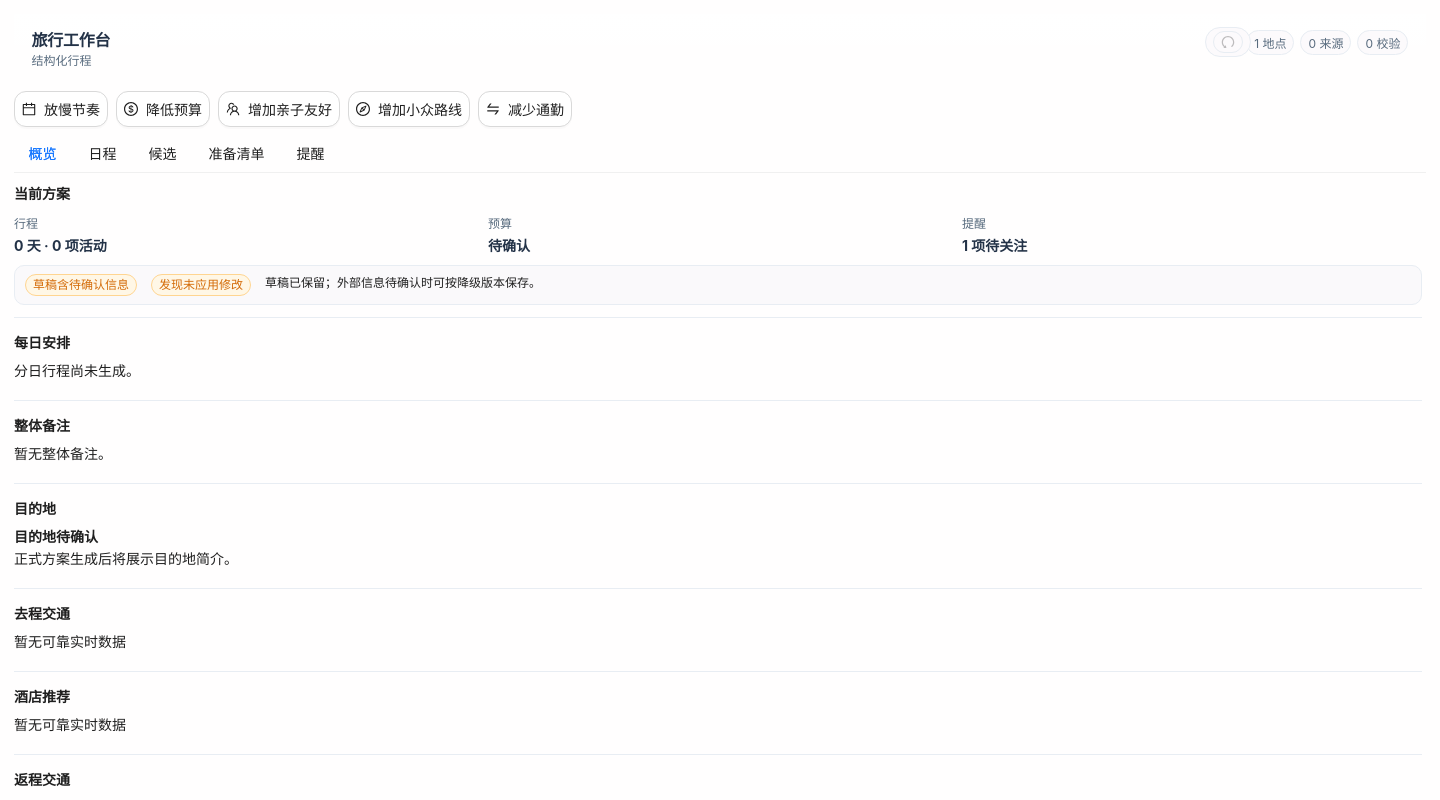
TripWorkspace › identifies a degraded draft as saveable pending external data
This screenshot has width=1440, height=800.
Check: the text "草稿含待确认信息" is shown, box [25,274,137,296]
Click the tab "提醒" at (310, 154), box [296,143,324,165]
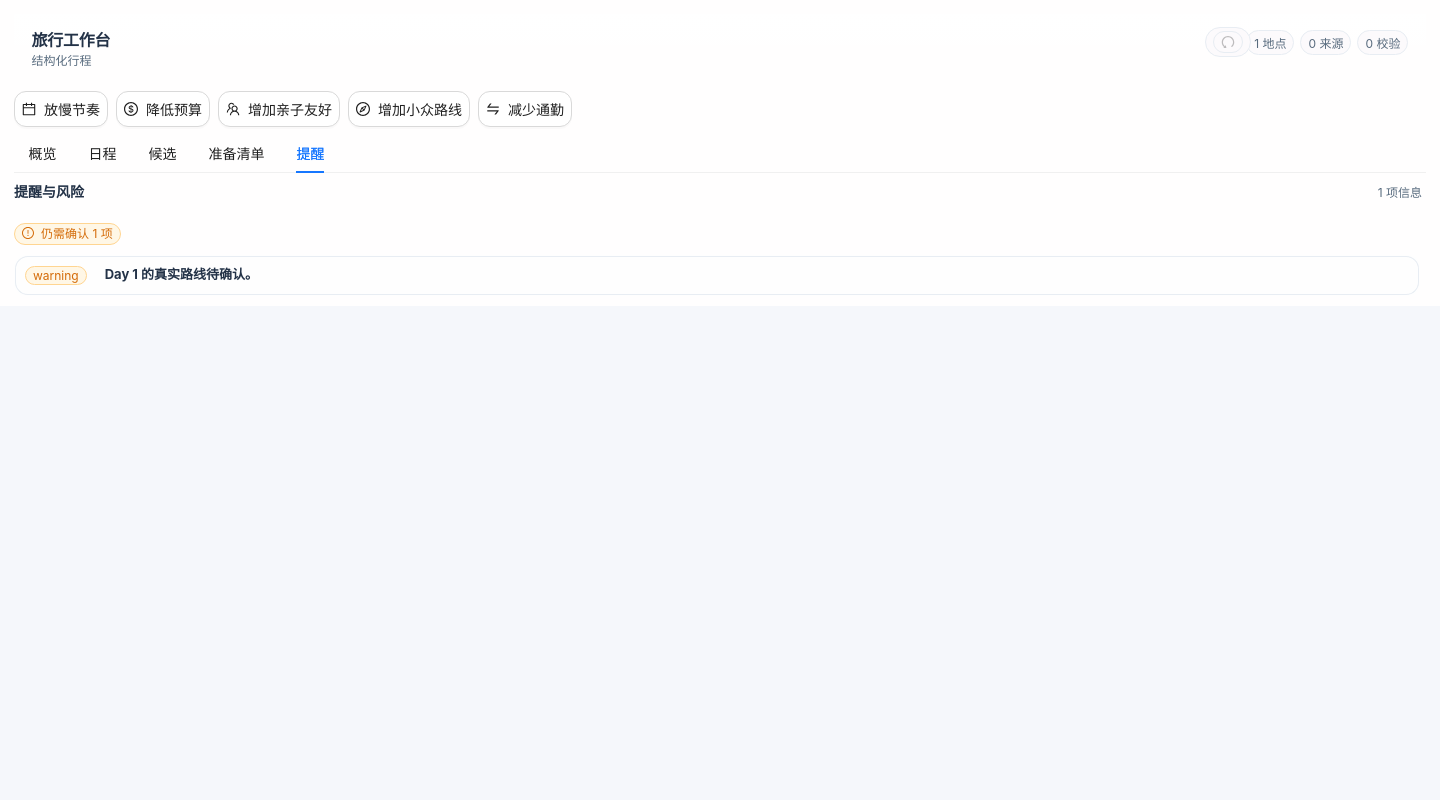
Check: the text "Day 1 的真实路线待确认。" is shown, box [105,266,258,283]
